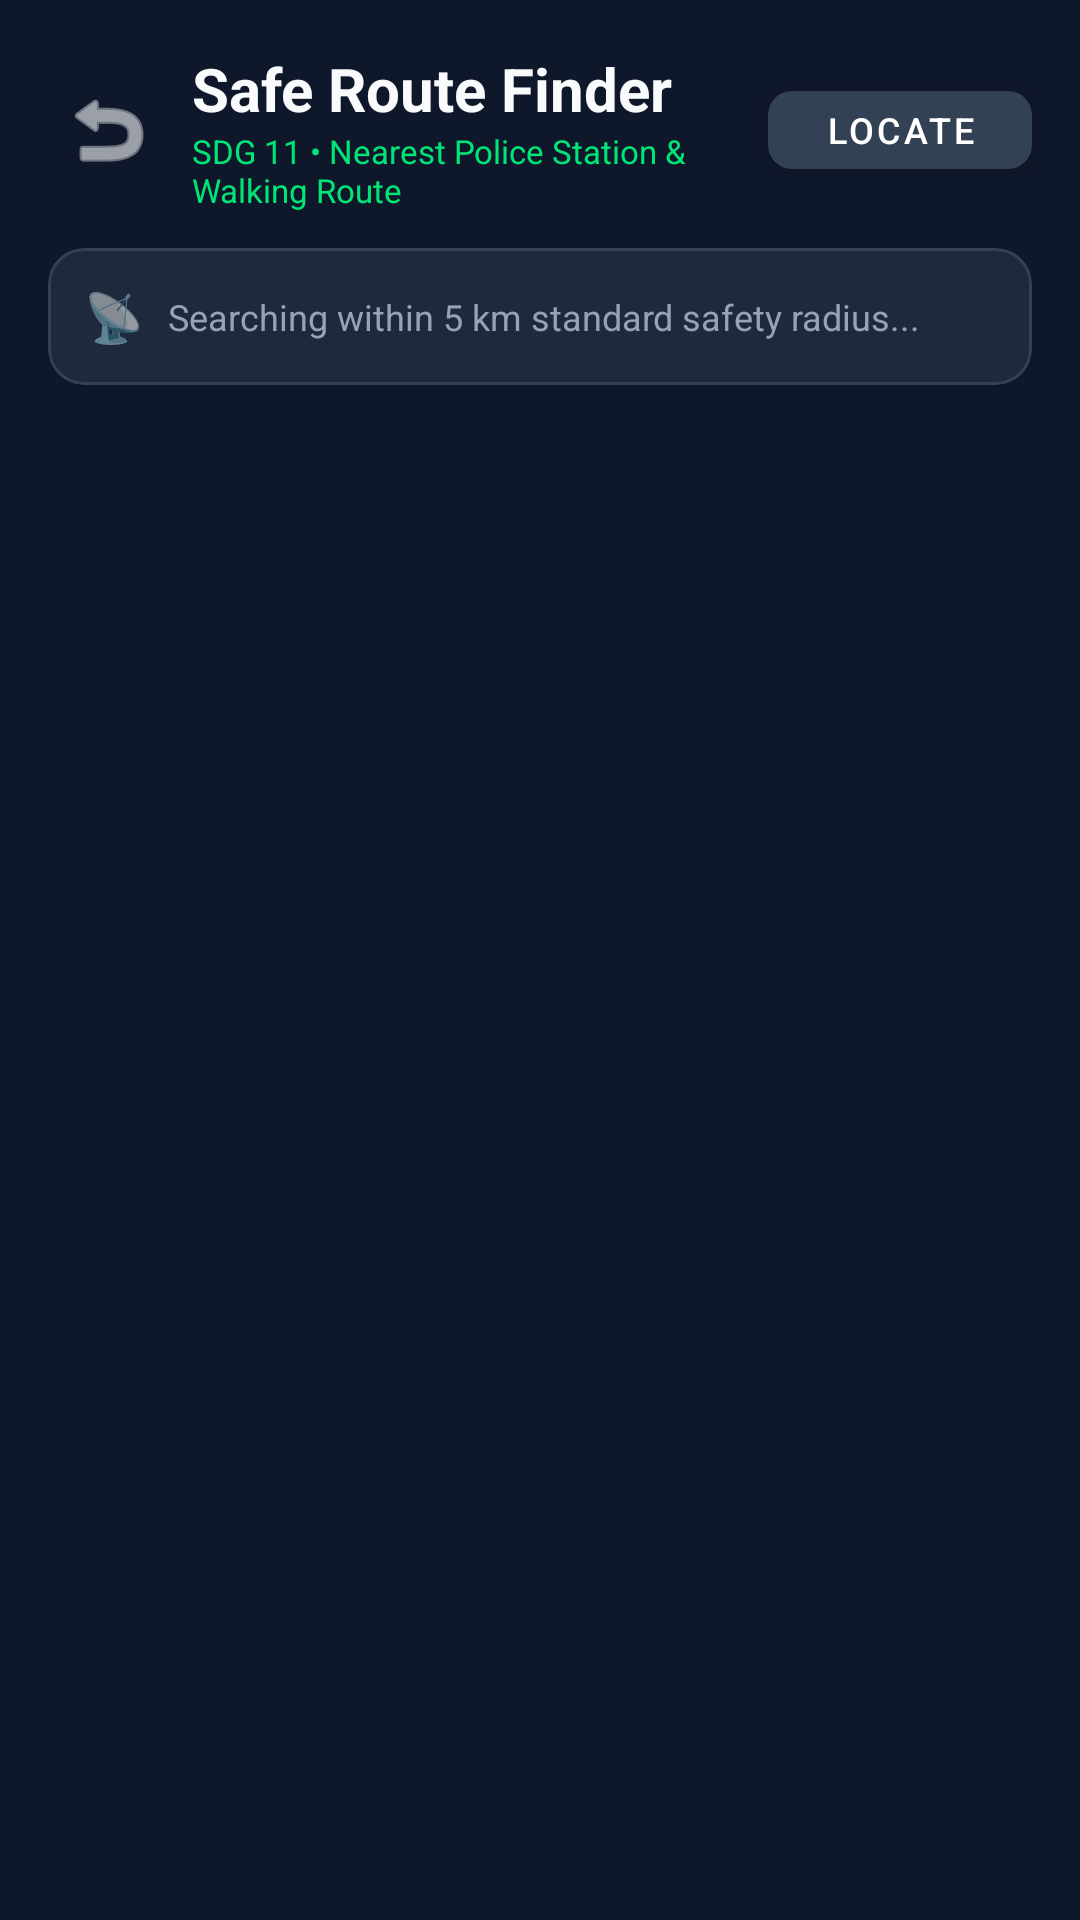

Named icons in this screenshot (1080 × 1920) and their centers, [x,y]:
Back: [109,130]
